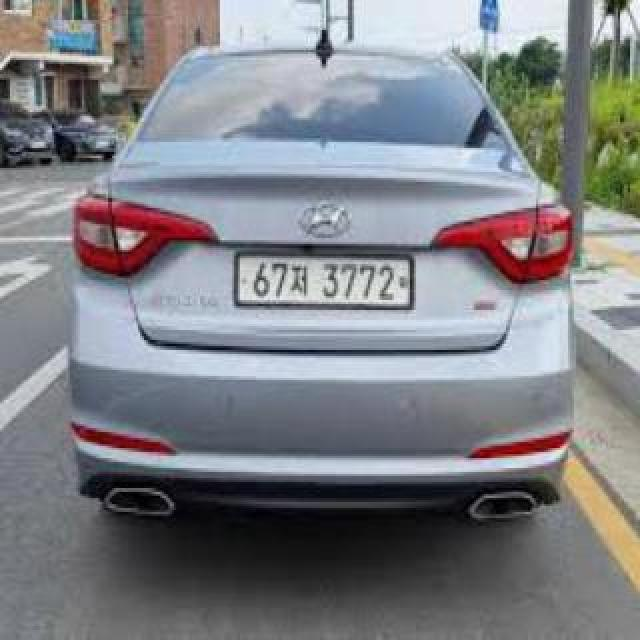EV_plate: (53, 29, 99, 54)
car: (60, 29, 589, 552)
illegal_plate: (234, 251, 414, 319)
